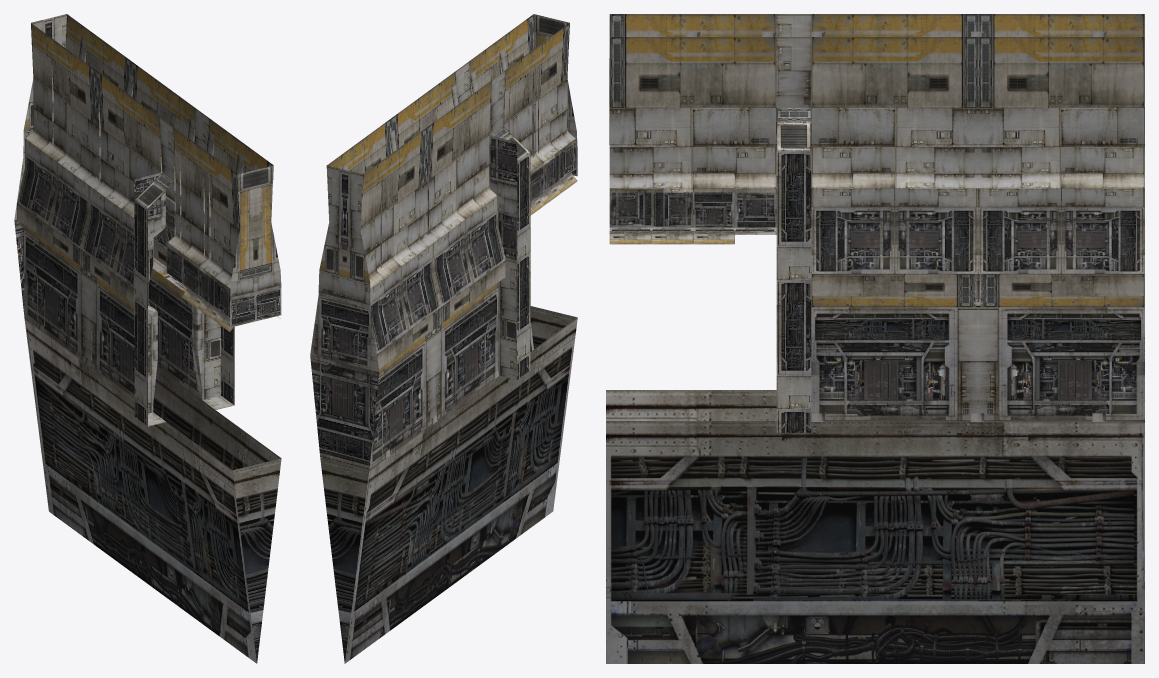
Rendered from STR_CeilingNarrowTall.FBX.
3 views of the same model, side by side, from view 1: azimuth 30°, elevation 25°; view 2: azimuth 150°, elevation 25°; view 3: azimuth 270°, elevation 25° (orthographic). The views are drawn at different scales.
Visible parts, largest first — view 1: STR_CeilingNarrowTall_00, STR_CeilingNarrowTall_01, STR_CeilingNarrowTall_08, STR_CeilingNarrowTall_04, STR_CeilingNarrowTall_02, STR_CeilingNarrowTall_05, STR_CeilingNarrowTall_07, STR_CeilingNarrowTall_06, STR_CeilingNarrowTall_03; view 2: STR_CeilingNarrowTall_06, STR_CeilingNarrowTall_07, STR_CeilingNarrowTall_05, STR_CeilingNarrowTall_02, STR_CeilingNarrowTall_00, STR_CeilingNarrowTall_08, STR_CeilingNarrowTall_04, STR_CeilingNarrowTall_01, STR_CeilingNarrowTall_03; view 3: STR_CeilingNarrowTall_00, STR_CeilingNarrowTall_08, STR_CeilingNarrowTall_07, STR_CeilingNarrowTall_02, STR_CeilingNarrowTall_01, STR_CeilingNarrowTall_05, STR_CeilingNarrowTall_04, STR_CeilingNarrowTall_06, STR_CeilingNarrowTall_03.
Part boxes in pixels (box(x1,y1,x2,y2)): STR_CeilingNarrowTall_00: box(163, 407, 281, 663); STR_CeilingNarrowTall_01: box(163, 118, 281, 331); STR_CeilingNarrowTall_08: box(90, 367, 211, 612); STR_CeilingNarrowTall_04: box(81, 215, 220, 413); STR_CeilingNarrowTall_02: box(89, 61, 209, 266); STR_CeilingNarrowTall_05: box(23, 14, 131, 214); STR_CeilingNarrowTall_07: box(24, 318, 114, 559); STR_CeilingNarrowTall_06: box(14, 156, 89, 362); STR_CeilingNarrowTall_03: box(134, 199, 234, 426); STR_CeilingNarrowTall_06: box(310, 273, 441, 469); STR_CeilingNarrowTall_07: box(320, 423, 434, 663); STR_CeilingNarrowTall_05: box(318, 118, 433, 317); STR_CeilingNarrowTall_02: box(389, 61, 530, 272); STR_CeilingNarrowTall_00: box(483, 306, 577, 561); STR_CeilingNarrowTall_08: box(410, 376, 506, 615); STR_CeilingNarrowTall_04: box(431, 225, 517, 424); STR_CeilingNarrowTall_01: box(469, 14, 577, 215); STR_CeilingNarrowTall_03: box(517, 153, 530, 379); STR_CeilingNarrowTall_00: box(606, 390, 786, 663); STR_CeilingNarrowTall_08: box(786, 421, 974, 663); STR_CeilingNarrowTall_07: box(974, 421, 1144, 663); STR_CeilingNarrowTall_02: box(776, 14, 985, 226); STR_CeilingNarrowTall_01: box(609, 14, 776, 244); STR_CeilingNarrowTall_05: box(978, 14, 1144, 226); STR_CeilingNarrowTall_04: box(811, 226, 984, 421); STR_CeilingNarrowTall_06: box(978, 226, 1144, 421); STR_CeilingNarrowTall_03: box(776, 151, 811, 432).
Size of the model in its own units: 1864 by 10128 by 7747.
